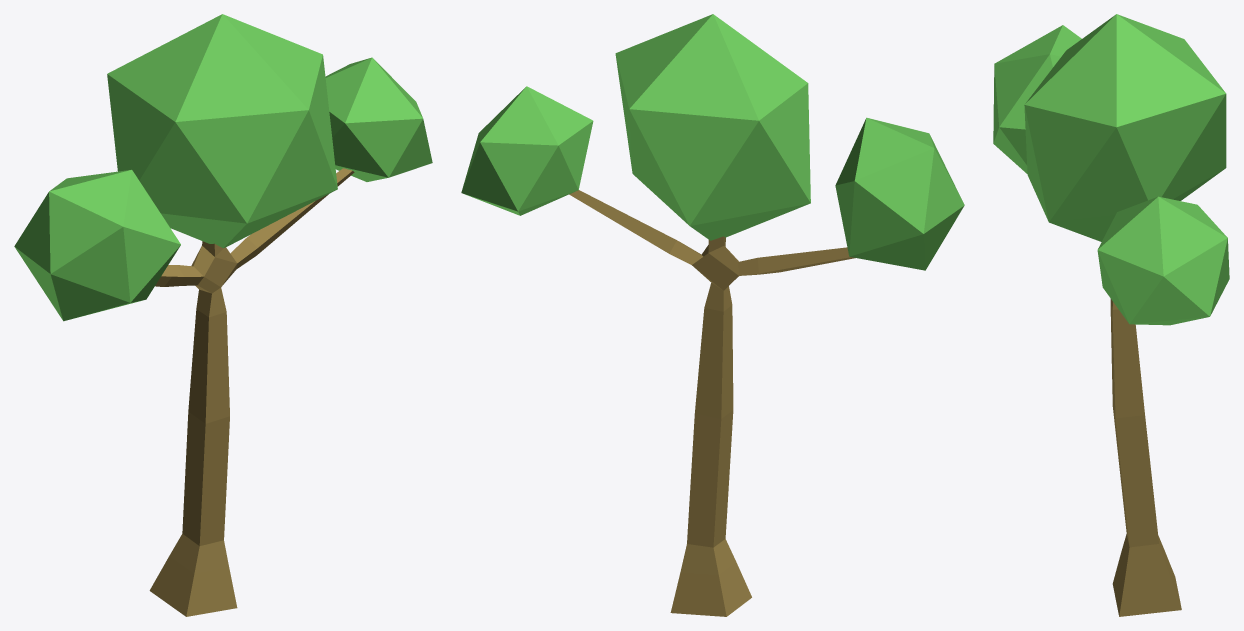
Rendered from TreeType2.fbx.
3 views of the same model, side by side, from view 1: azimuth 30°, elevation 25°; view 2: azimuth 150°, elevation 25°; view 3: azimuth 270°, elevation 25° (orthographic). The views are drawn at different scales.
Visible parts, largest first — view 1: Tree Type 2; view 2: Tree Type 2; view 3: Tree Type 2.
Part boxes in pixels (x1,y1,x2,y2): Tree Type 2: (14, 14, 432, 616); Tree Type 2: (461, 14, 964, 616); Tree Type 2: (993, 14, 1229, 616).
Size of the model in its own units: 833 by 1102 by 397.
